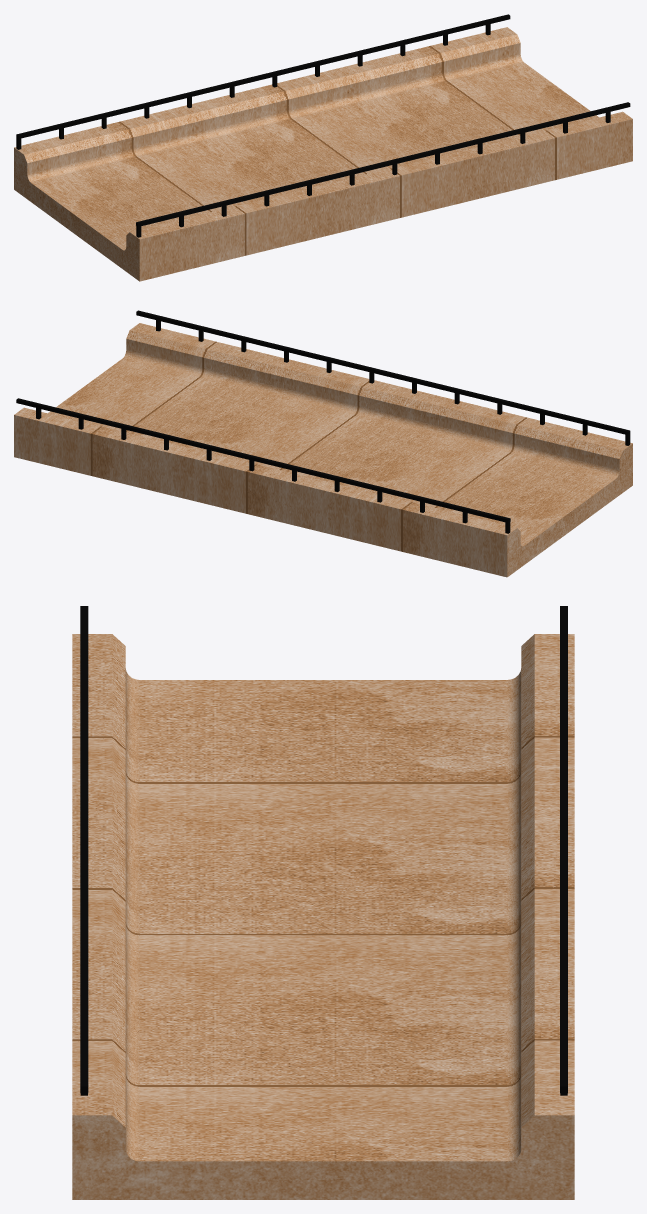
File: bridgeRoad.fbx
The picture shows the model from 3 angles, top to bottom: view 1: azimuth 30°, elevation 25°; view 2: azimuth 150°, elevation 25°; view 3: azimuth 270°, elevation 25°; orthographic projection. The views are drawn at different scales.
Parts seen in each view (by area): view 1: Road; view 2: Road; view 3: Road.
Boxes of the visible parts, x1,y1,x2,y2 form: Road: (14,14,632,281); Road: (14,310,632,577); Road: (72,606,574,1199).
Bounding box in the file's own units: 453 × 49.46 × 200.
Materials: 2 (1 with a texture image).
